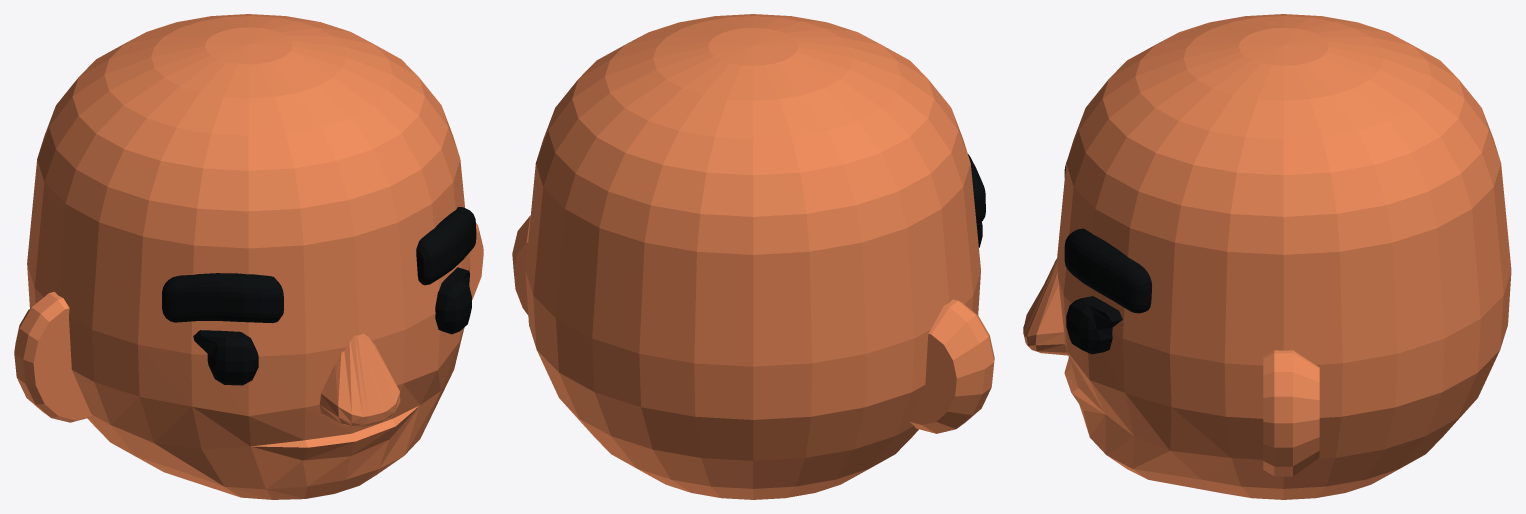
File: character_mageHead.obj
3 views of the same model, side by side, from view 1: azimuth 30°, elevation 25°; view 2: azimuth 150°, elevation 25°; view 3: azimuth 270°, elevation 25° (orthographic). The views are drawn at different scales.
Visible parts, largest first — view 1: character_mageHead_Cube.016; view 2: character_mageHead_Cube.016; view 3: character_mageHead_Cube.016.
Part boxes in pixels (x1=…): character_mageHead_Cube.016: x1=14, y1=14, x2=483, y2=499; character_mageHead_Cube.016: x1=512, y1=14, x2=994, y2=499; character_mageHead_Cube.016: x1=1023, y1=14, x2=1511, y2=499.
Bounding box in the file's own units: 1.18 × 0.9703 × 1.05.
